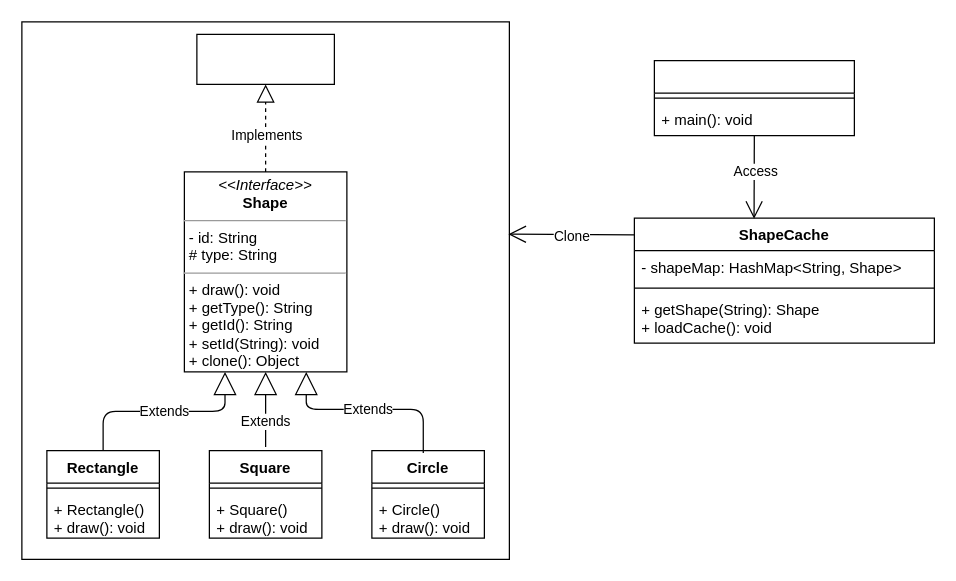
Image size: 956x581. Some labels were removed from this diagram. The box of each missing label's shape, as (x1, y1, x2, y2) in pixels:
PrototypePatternDemo: (653, 59, 854, 136)
«interface» Cloneable: (196, 33, 334, 84)
